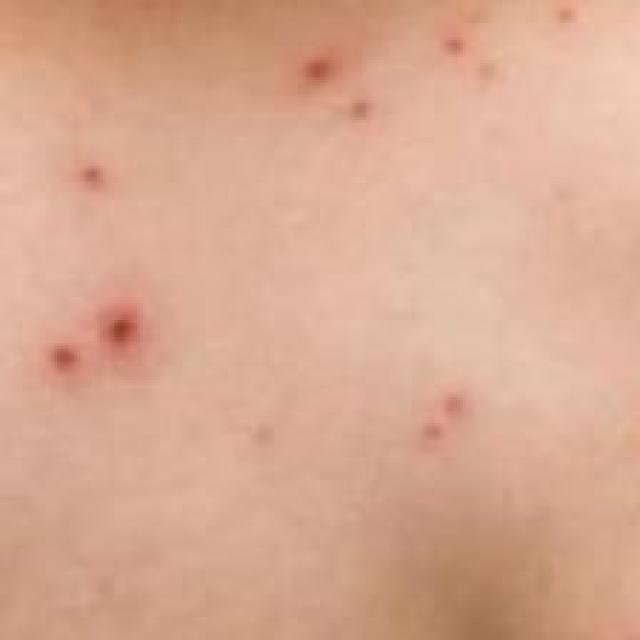monkeypox: (0, 6, 631, 624)
